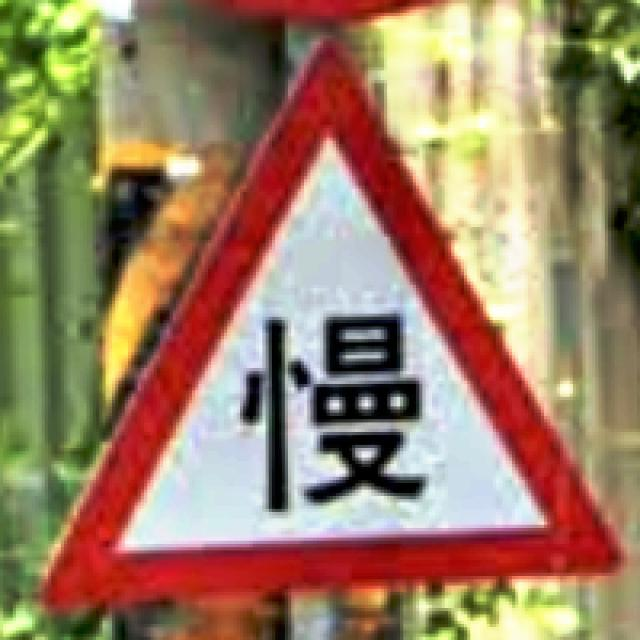slow: (42, 42, 627, 605)
